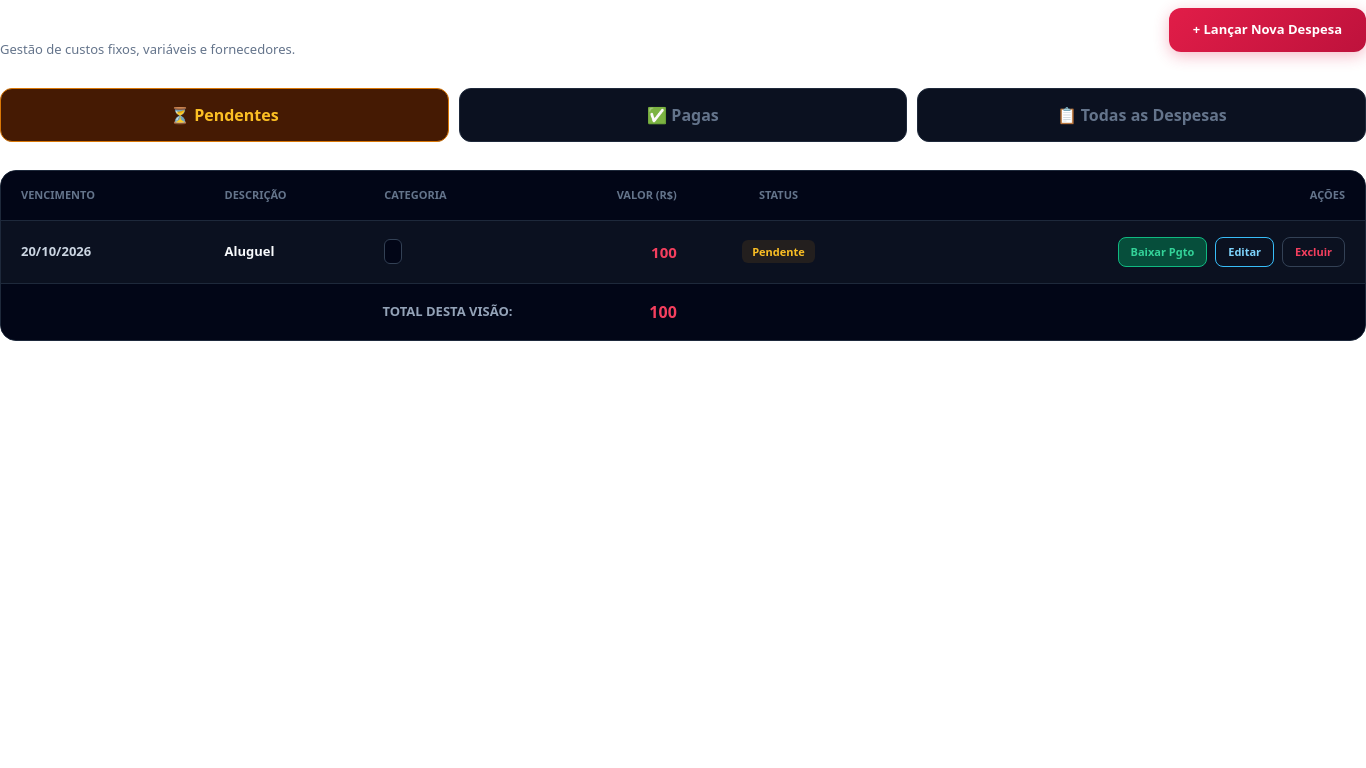
Scenario: despesa pendente é ocultada reversivelmente apenas após confirmação da nuvem
Click the button "Excluir". click: [1314, 252]
box: [1282,236,1345,267]
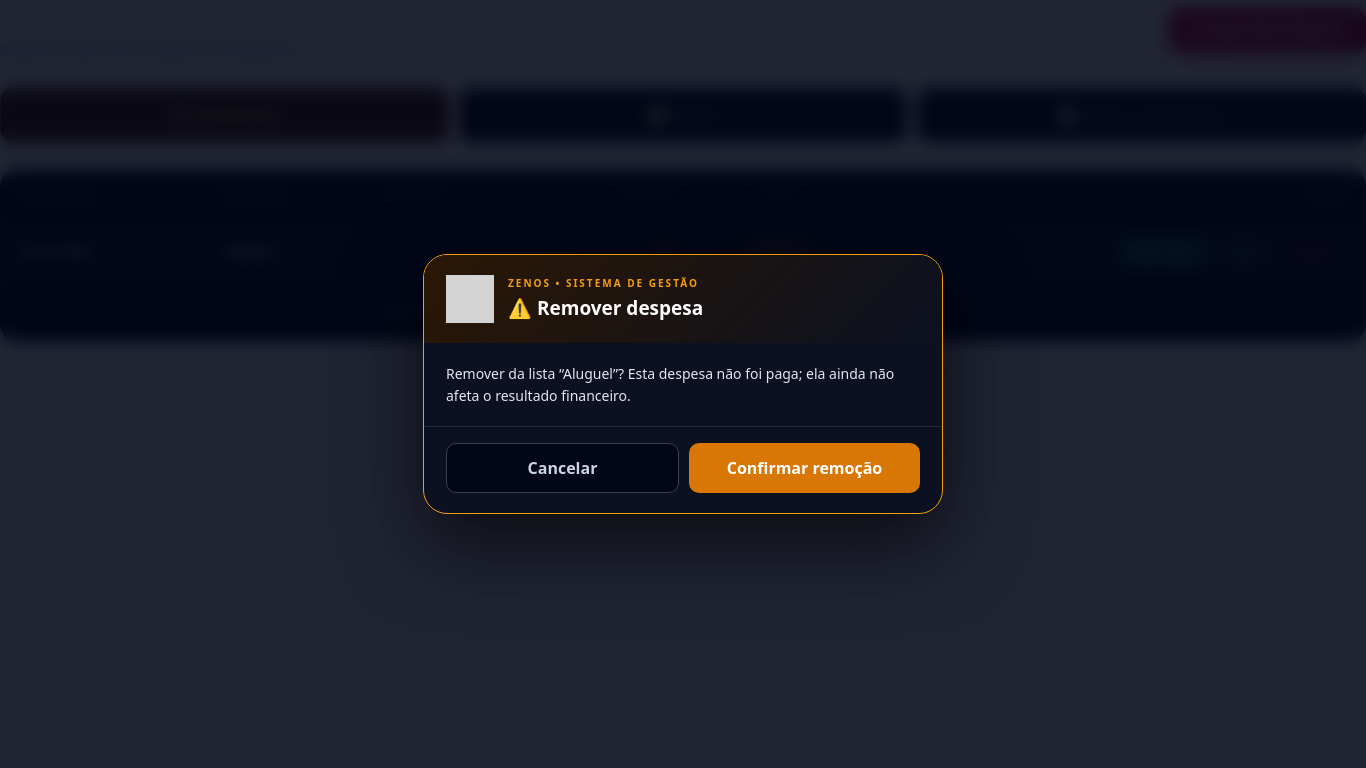
Expected: the text "⚠️ Remover despesa" is shown, [508,295,703,321]
Click the button "Confirmar remoção". click: [804, 468]
box: [689,443,920,493]
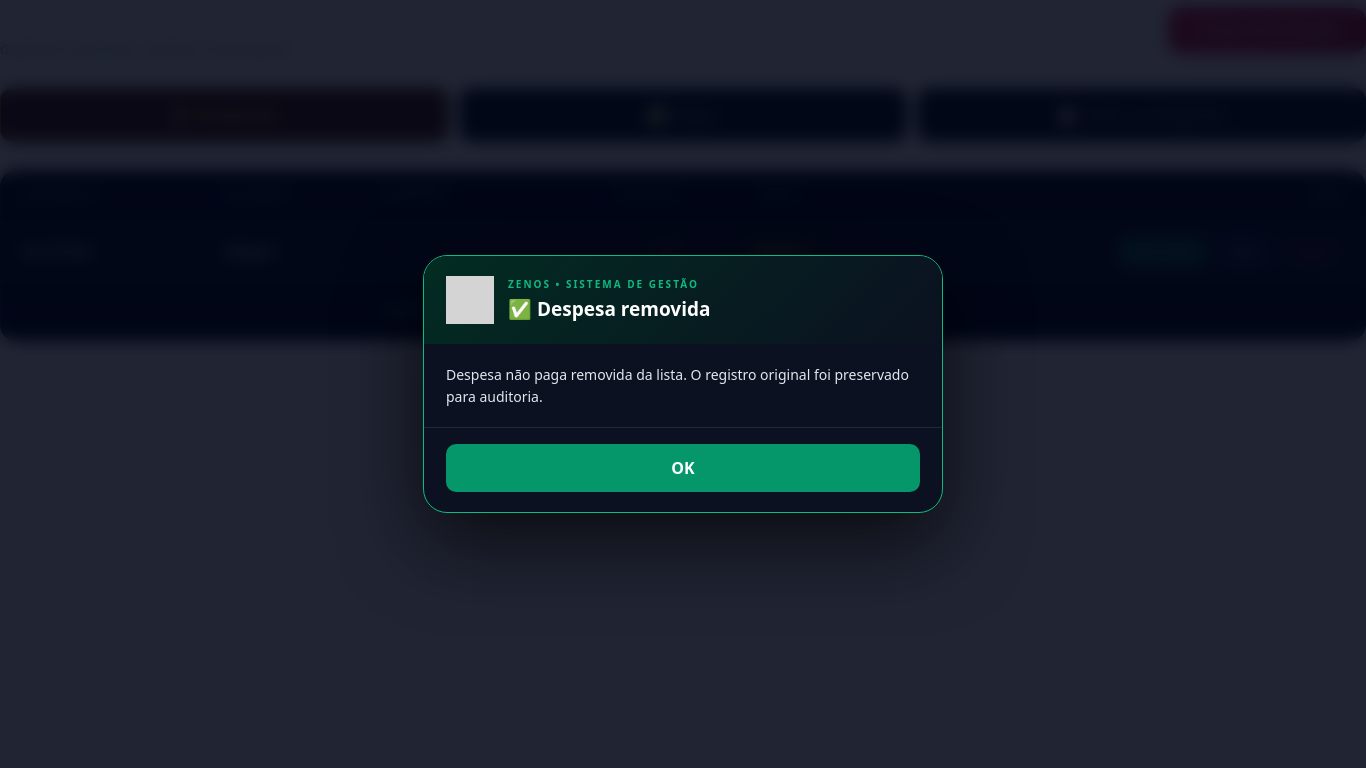
Expected: the text "✅ Despesa removida" is shown, [508,296,710,322]
